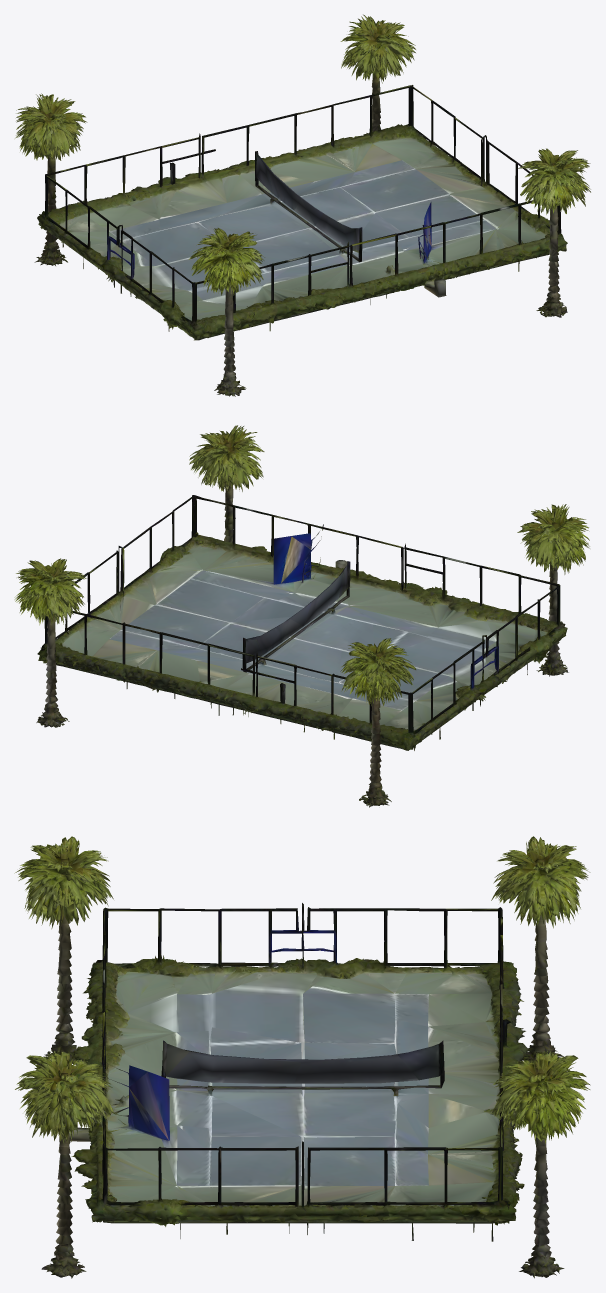
Rendered from tennis-court.glb.
3 renders of one model, top to bottom at view 1: azimuth 30°, elevation 25°; view 2: azimuth 150°, elevation 25°; view 3: azimuth 270°, elevation 25°, orthographic. The views are drawn at different scales.
Visible parts, largest first — view 1: Mesh_0; view 2: Mesh_0; view 3: Mesh_0.
Boxes of the visible parts, x1,y1,x2,y2 form: Mesh_0: (15,14,590,396); Mesh_0: (14,425,589,807); Mesh_0: (14,836,590,1278).
Bounding box in the file's own units: 1.88 × 0.7335 × 1.8.
1 material, 1 textured.
